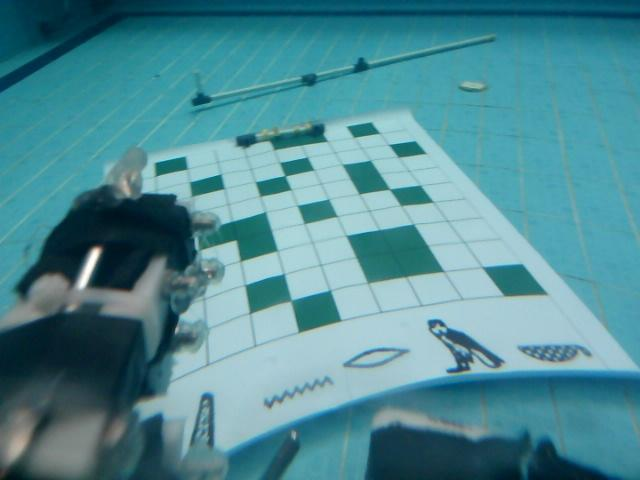Basket: (514, 337, 593, 370)
Mouth: (342, 346, 416, 372)
Owl: (421, 313, 506, 377)
Reed: (191, 391, 219, 461)
Water: (259, 373, 339, 411)
